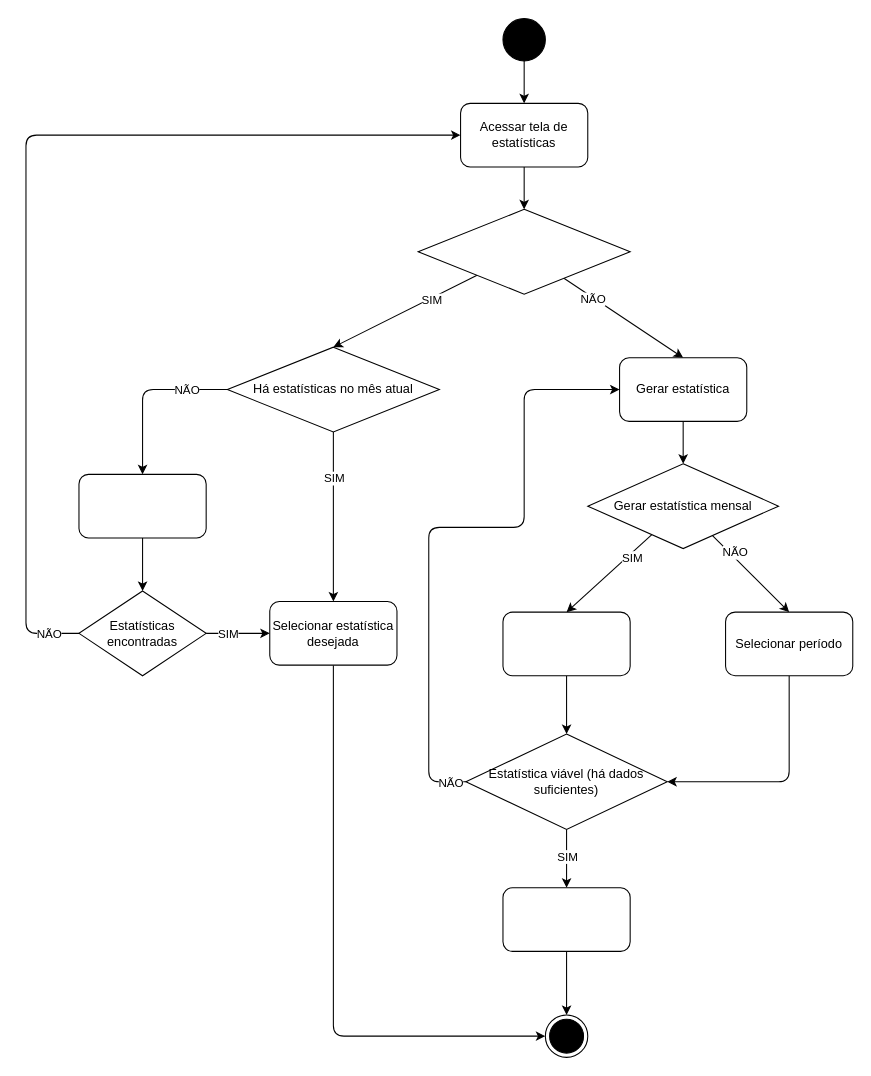
Image size: 871x1076. Some labels were removed from this diagram. The box of each missing label's shape, as (x1, y1, x2, y2) in pixels:
Acessar estatísticas do mês: (417, 208, 630, 294)
Estatística gerada: (502, 887, 630, 951)
Filtrar estatísticas: (78, 473, 206, 538)
Selecionar mês: (502, 611, 630, 676)
